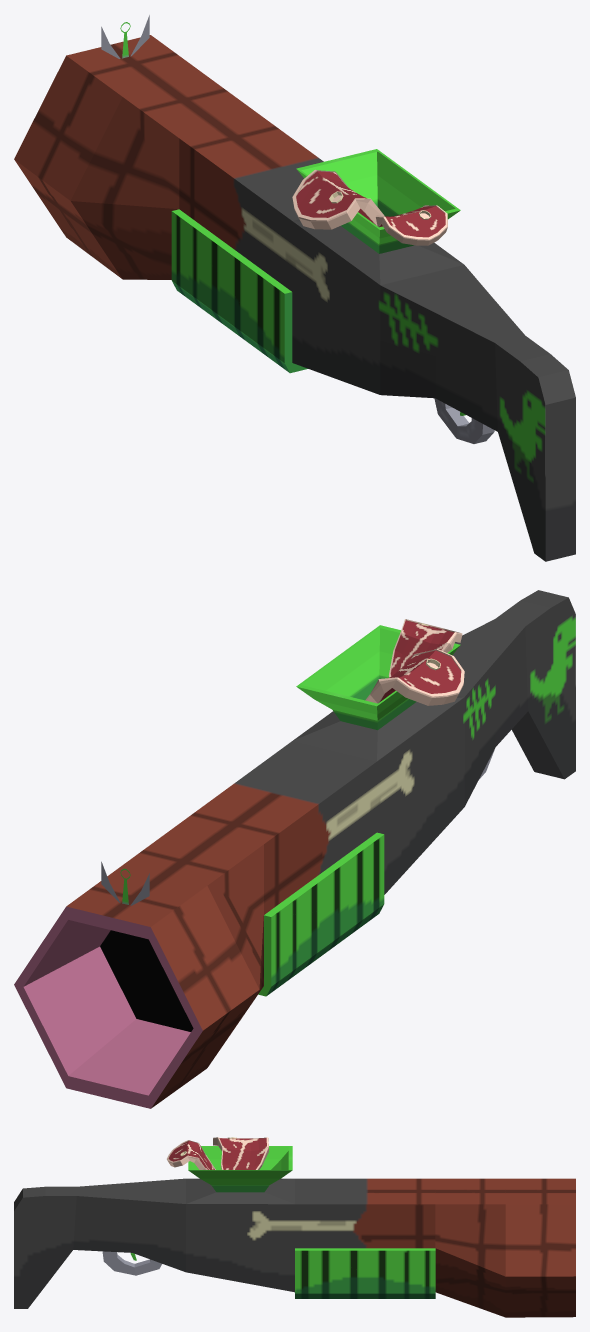
Rendered from Ham_Gun.fbx.
3 views of the same model, one above another, from view 1: azimuth 30°, elevation 25°; view 2: azimuth 150°, elevation 25°; view 3: azimuth 270°, elevation 25° (orthographic). The views are drawn at different scales.
Parts seen in each view (by area): view 1: Ham Gun; view 2: Ham Gun; view 3: Ham Gun.
Part boxes in pixels (x1=…): Ham Gun: x1=14, y1=15, x2=575, y2=561; Ham Gun: x1=14, y1=590, x2=575, y2=1108; Ham Gun: x1=14, y1=1137, x2=575, y2=1317.
Size of the model in its own units: 218 by 275 by 902.
